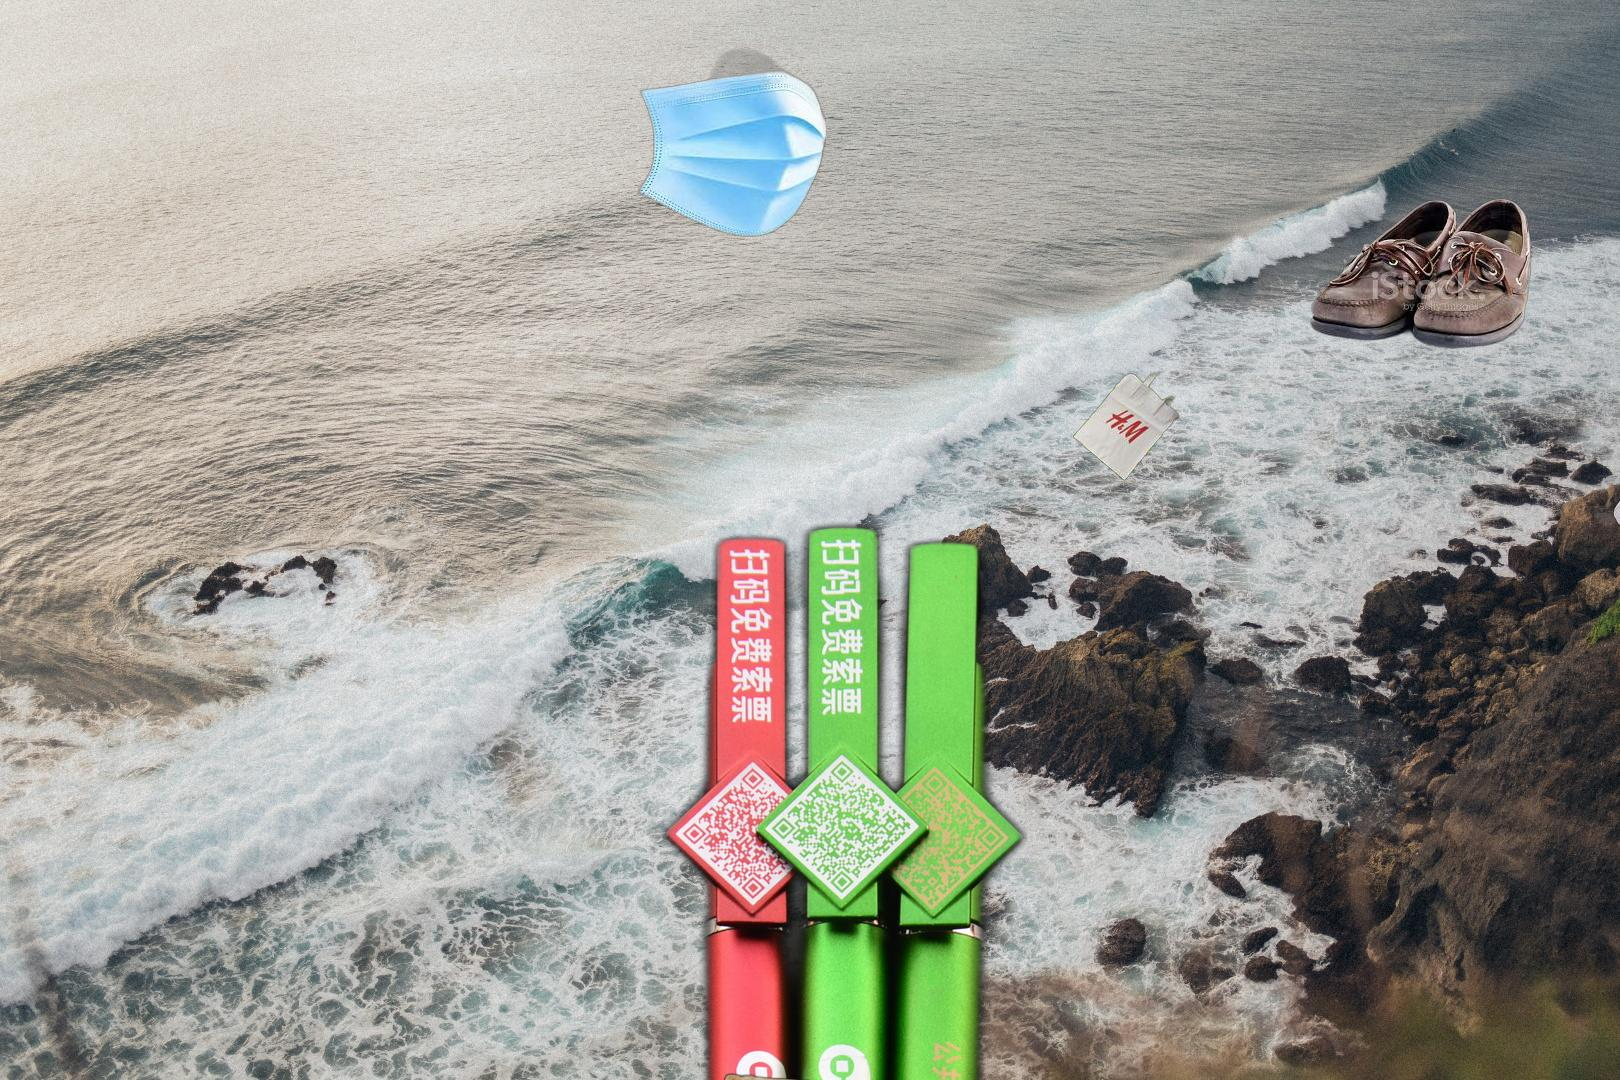paper-bag: (1070, 368, 1182, 481), (717, 1072, 877, 1080)
penholder: (647, 513, 1039, 1080)
shoes: (1307, 196, 1534, 350)
trash: (636, 45, 826, 237), (1610, 405, 1620, 565)
trashbox-cardboard: (1342, 204, 1620, 849)
